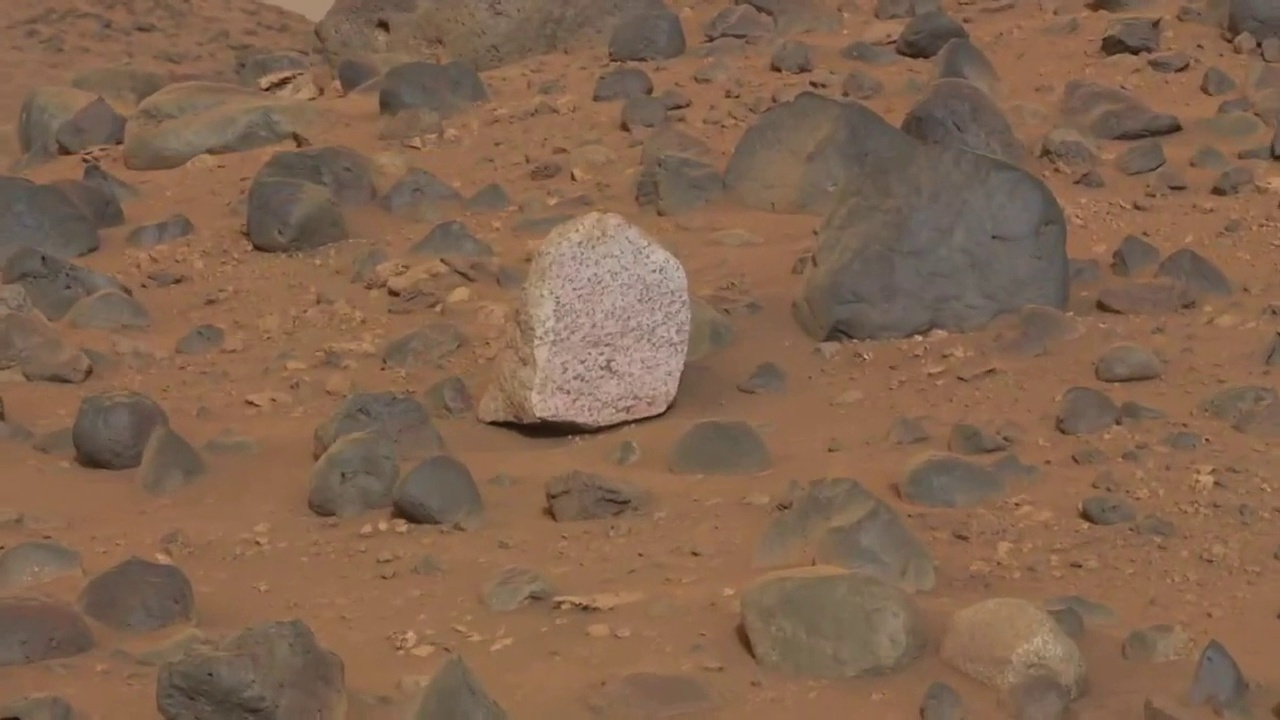rock: (476, 220, 722, 444), (1097, 19, 1162, 57), (1036, 140, 1096, 174), (1077, 500, 1132, 526), (1209, 172, 1253, 197), (769, 50, 813, 75)
